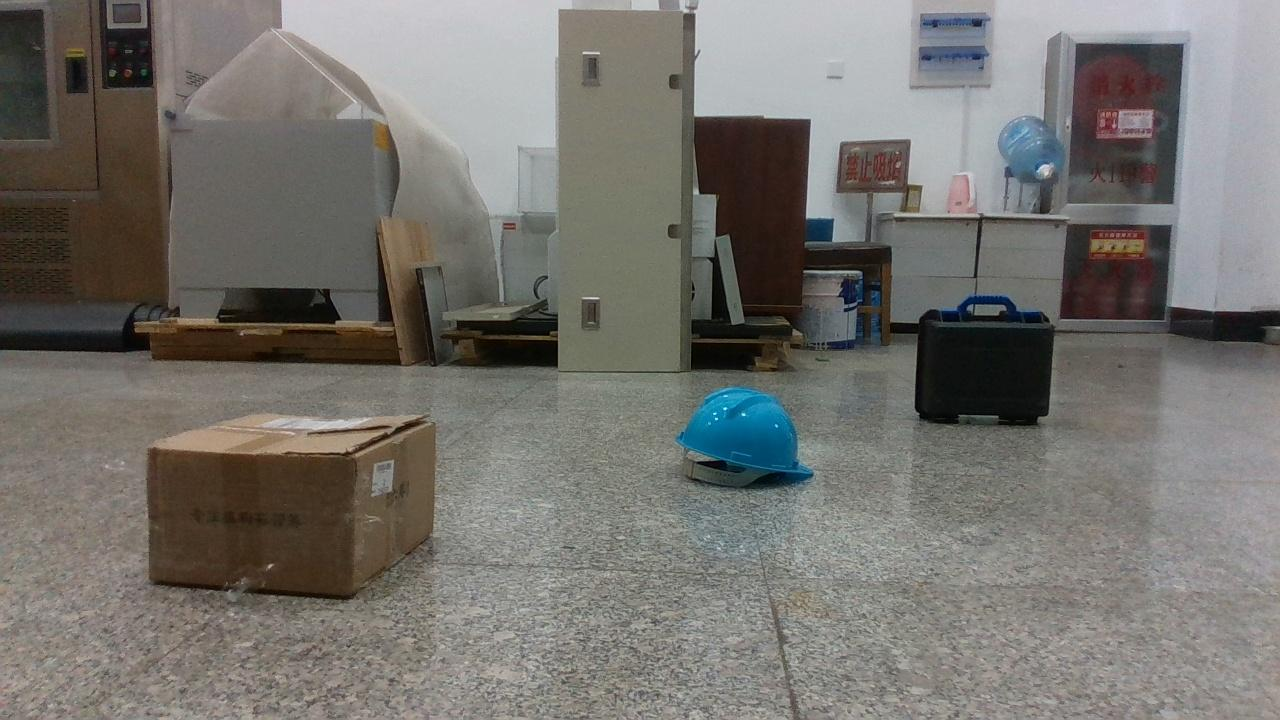box: (148, 412, 434, 596)
toolkit: (915, 295, 1055, 425), (678, 388, 812, 486)
